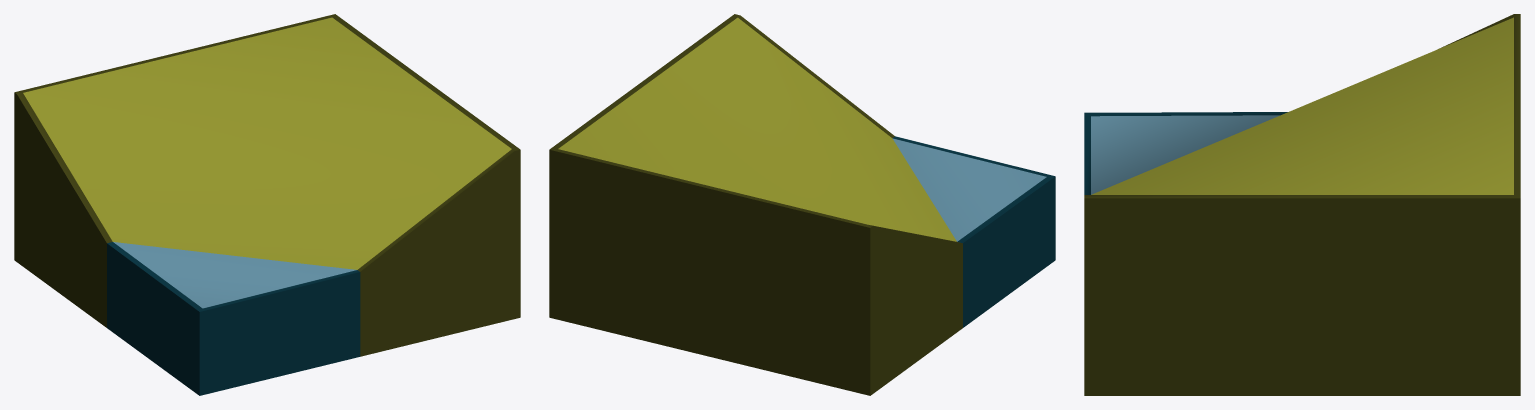
File: Agua_11.fbx
3 views of the same model, side by side, from view 1: azimuth 30°, elevation 25°; view 2: azimuth 150°, elevation 25°; view 3: azimuth 270°, elevation 25° (orthographic). The views are drawn at different scales.
Parts seen in each view (by area): view 1: pCube4; view 2: pCube4; view 3: pCube4.
Part boxes in pixels (bbox=[...]): pCube4: bbox=[14, 14, 520, 395]; pCube4: bbox=[549, 14, 1055, 395]; pCube4: bbox=[1084, 14, 1520, 395].
Size of the model in its own units: 200 by 100 by 200.
